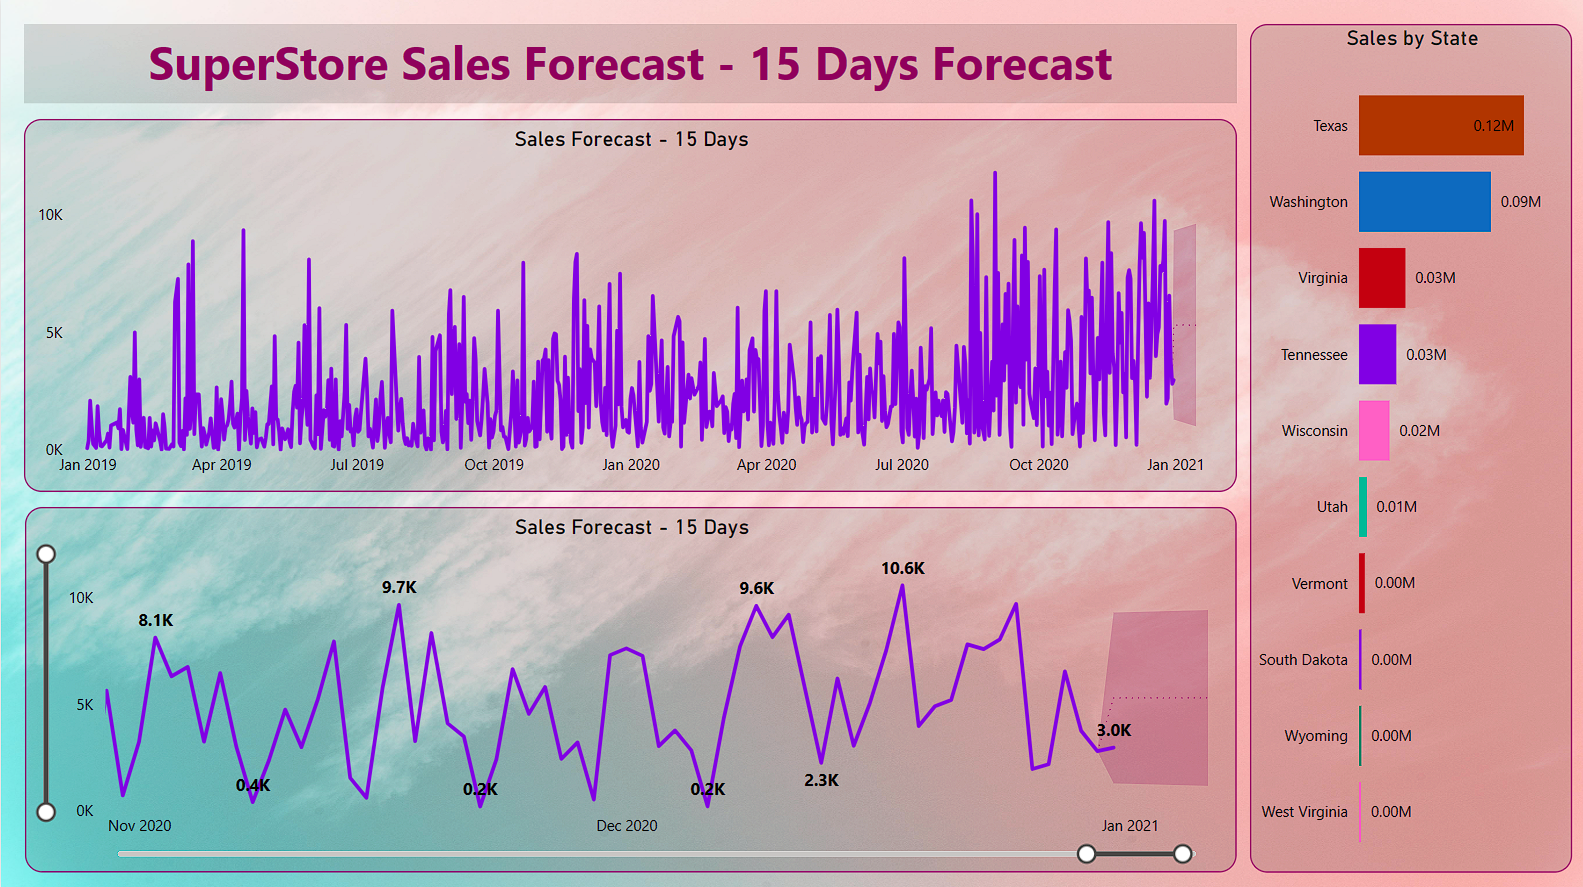

This screenshot's page, from the dashboard's own definition file:
{"tool":"powerbi","page":{"name":"Sales Forecast","canvas":[1280,720],"ordinal":1},"visuals":[{"type":"lineChart","title":"Sales Forecast - 15 Days","fields":{"Category":["Sales Forecast.Order Date"],"Y":["Sum(Sales Forecast.Total Sales)"]},"box":[18.6,97.7,979.1,301.2],"z":0},{"type":"lineChart","title":"Sales Forecast - 15 Days","fields":{"Y":["Sum(Sales Forecast.Total Sales)"],"Category":["Sales Forecast.Order Date"]},"box":[19.8,410.5,977.9,295.3],"z":1},{"type":"clusteredBarChart","title":"Sales by State","fields":{"Category":["SuperStore_Sales_Dataset.State"],"Y":["Sum(SuperStore_Sales_Dataset.Sales)"]},"box":[1008.1,20.9,260.5,684.9],"z":2},{"type":"textbox","box":[18.6,20.9,979.1,64],"z":3}]}

Visuals, with their boxes in screenshot pixels (x1, y1, x2, y2), scaled from the page's 1280x720 canvas onto the 1583x887 screenshot:
"Sales Forecast - 15 Days" lineChart: region(23, 120, 1234, 491)
"Sales Forecast - 15 Days" lineChart: region(24, 506, 1234, 870)
"Sales by State" clusteredBarChart: region(1247, 26, 1569, 870)
textbox: region(23, 26, 1234, 105)
